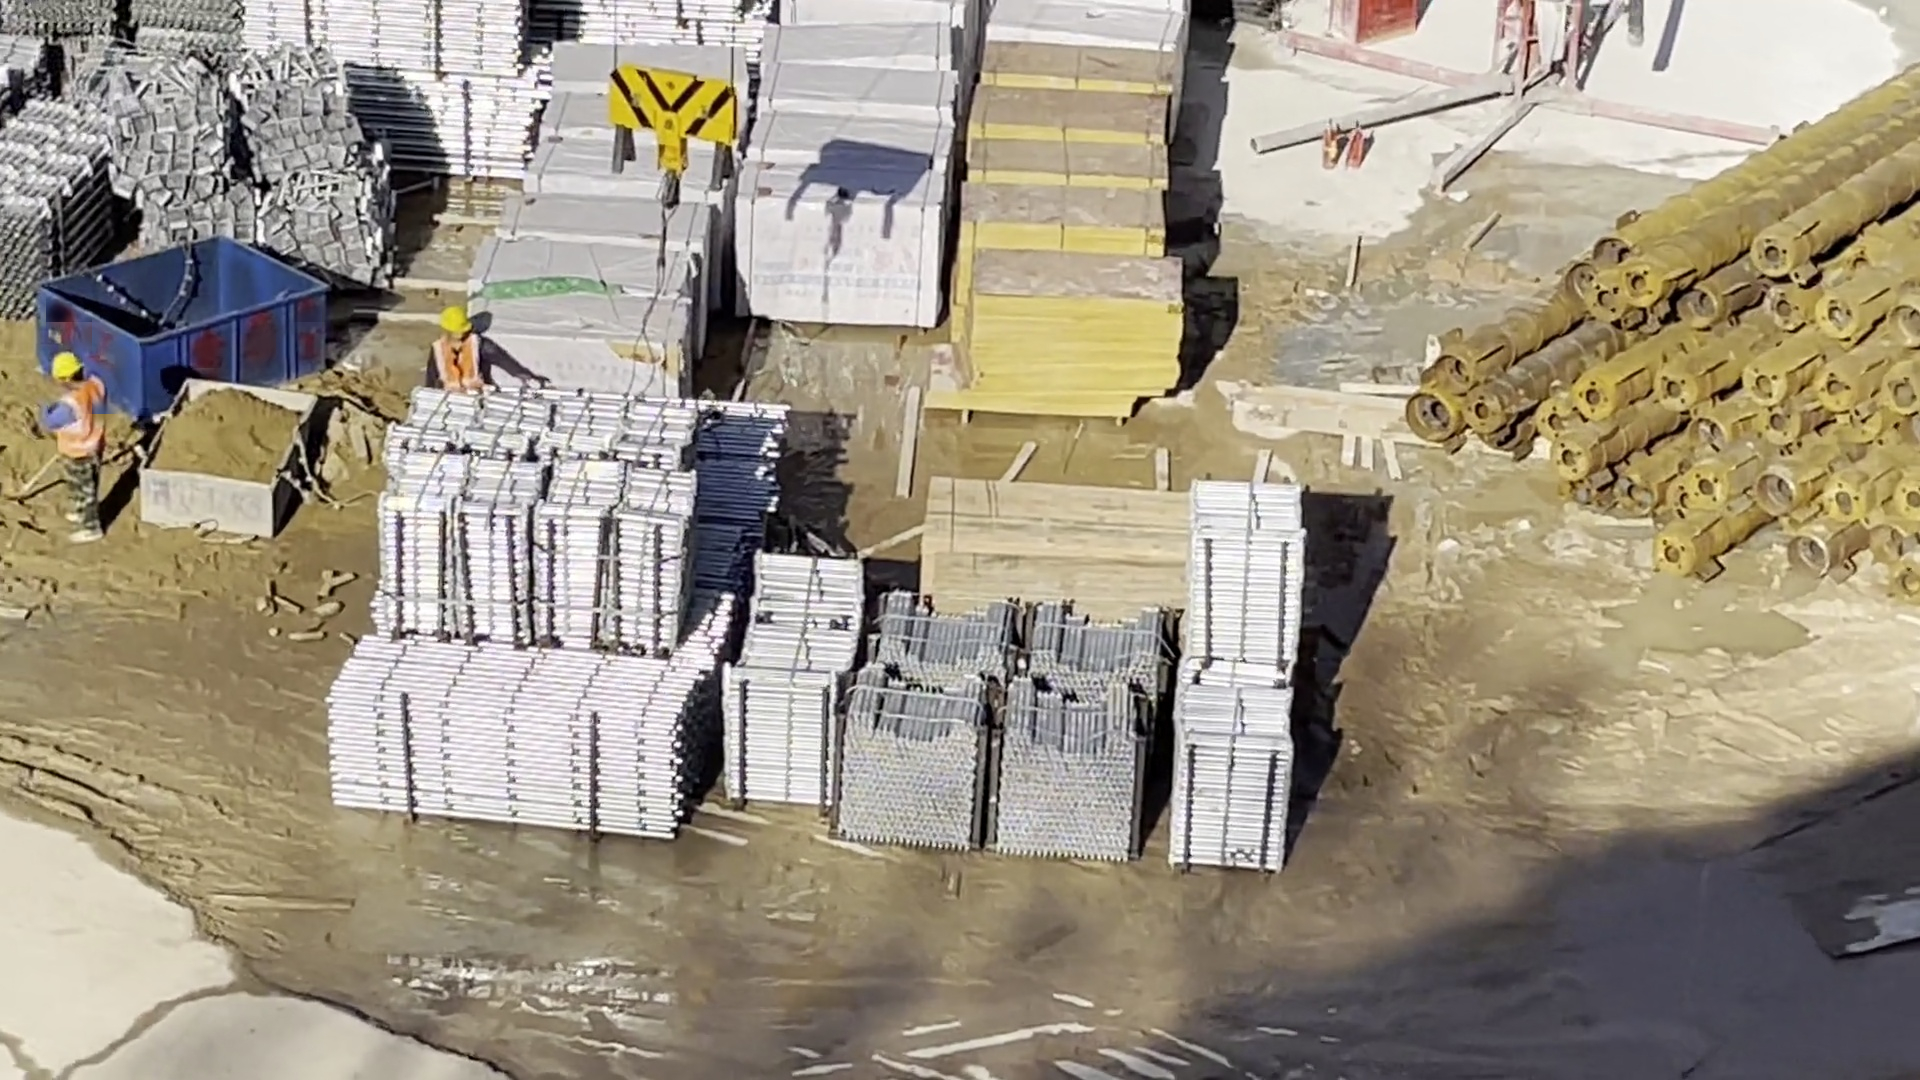helmet: (420, 292, 484, 343), (48, 347, 89, 384)
hook: (599, 45, 752, 186)
hopper: (32, 225, 336, 399), (148, 380, 325, 537)
person: (34, 348, 118, 553), (413, 299, 537, 410)
scaffold: (380, 389, 832, 834), (877, 585, 1129, 841), (1178, 476, 1294, 878), (279, 1, 527, 183), (1, 59, 121, 297)
vest: (47, 385, 103, 451), (417, 348, 485, 392)
